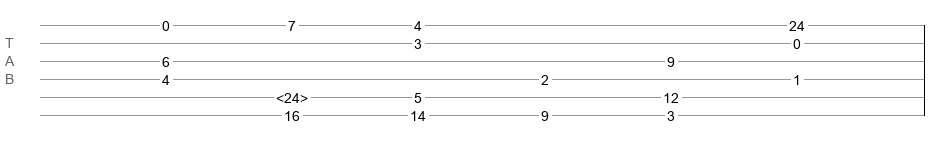0: (162, 18, 170, 28), (793, 36, 801, 46)
1: (793, 72, 801, 82)
12: (663, 90, 679, 100)
14: (410, 108, 426, 118)
16: (284, 108, 300, 118)
2: (541, 72, 549, 82)
24: (789, 18, 805, 28)
3: (414, 36, 422, 46), (667, 108, 675, 118)
4: (162, 72, 170, 82), (414, 18, 422, 28)
5: (414, 90, 422, 100)
6: (162, 54, 170, 64)
7: (288, 18, 296, 28)
9: (541, 108, 549, 118), (667, 54, 675, 64)
harmonic: (276, 90, 308, 100)
